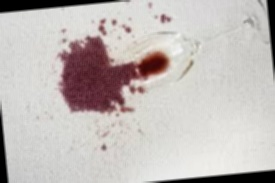wine: (57, 42, 171, 118), (63, 37, 109, 63), (92, 14, 112, 42), (118, 17, 138, 38), (157, 11, 176, 25), (93, 141, 108, 156), (101, 124, 115, 139), (146, 3, 154, 12)
